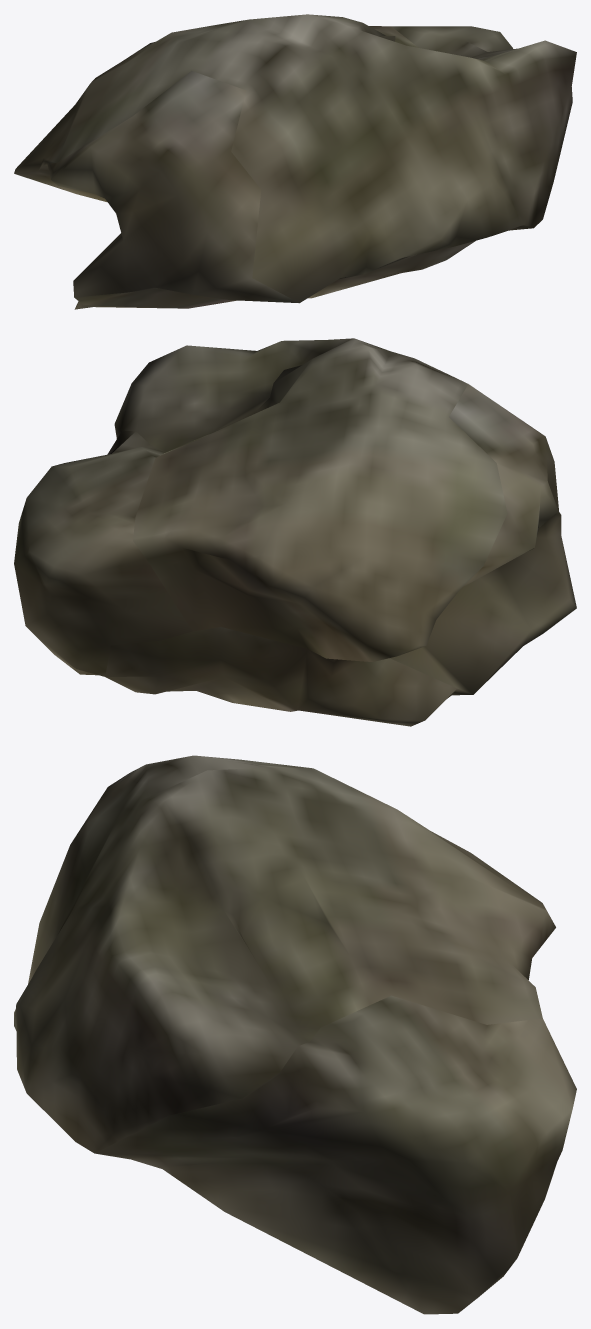
The picture shows the model from 3 angles, top to bottom: view 1: azimuth 30°, elevation 25°; view 2: azimuth 150°, elevation 25°; view 3: azimuth 270°, elevation 25°; orthographic projection. The views are drawn at different scales.
Parts seen in each view (by area): view 1: rock_moss_set_02__e_lod2; view 2: rock_moss_set_02__e_lod2; view 3: rock_moss_set_02__e_lod2.
Part boxes in pixels (<box>): rock_moss_set_02__e_lod2: <box>14,14,576,309</box>; rock_moss_set_02__e_lod2: <box>14,338,576,726</box>; rock_moss_set_02__e_lod2: <box>14,755,576,1314</box>.
Bounding box in the file's own units: 1.94 × 1.3 × 1.51.
Materials: 1 (1 with a texture image).
